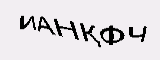А: (37, 12, 56, 36)
И: (13, 12, 38, 32)
Н: (53, 17, 79, 41)
Ф: (99, 23, 127, 49)
Ч: (127, 22, 148, 46)
Қ: (79, 22, 102, 48)
